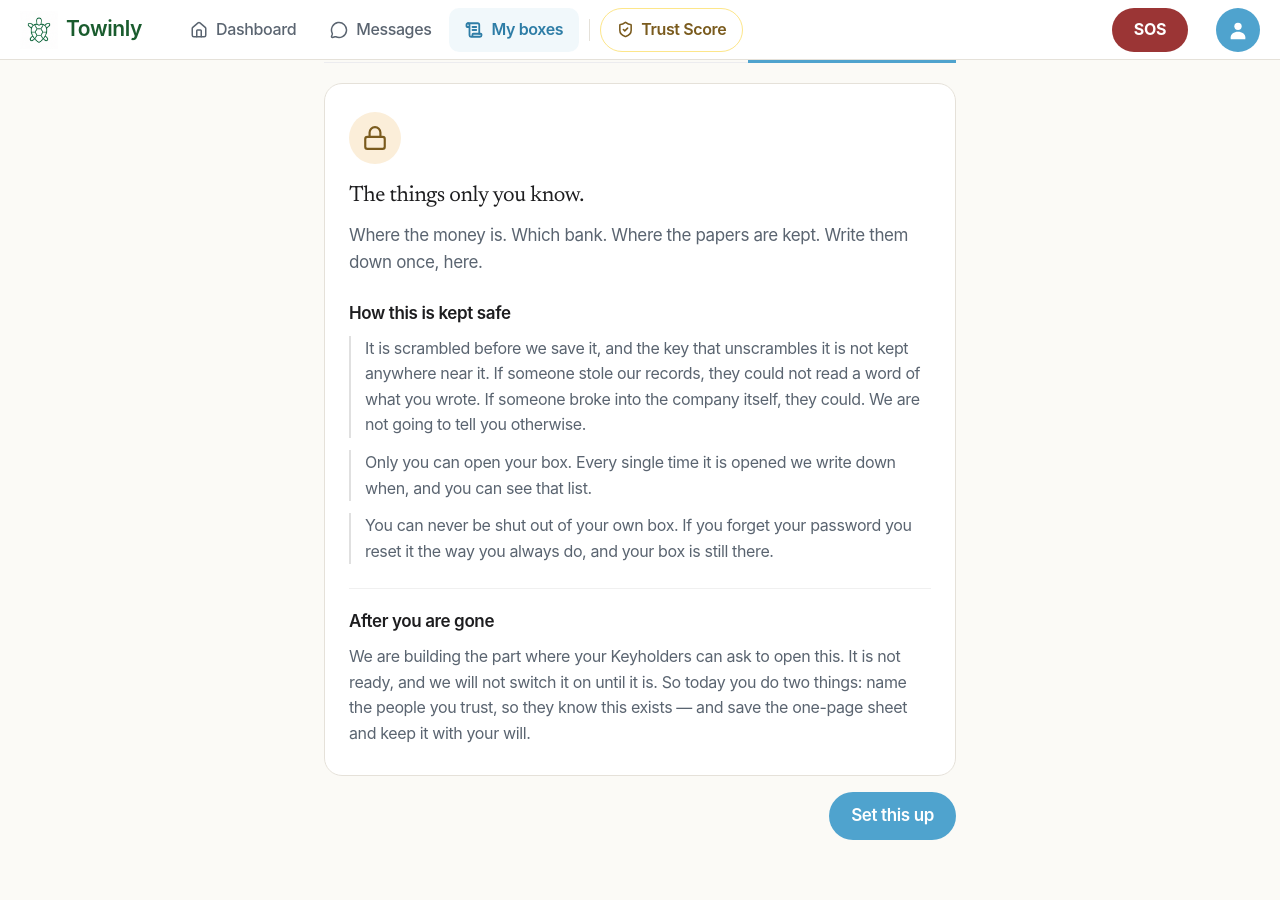
Test: setting the Sealed box up › says plainly that a family list of two is a dead end, and does not offer the pick
(page scrolled)
Check: the heading "The things only you know." is shown, box [349,185,584,207]
Step 1. Click the button "Set this up" → (893, 816), box [829,792,956,840]
(page scrolled)
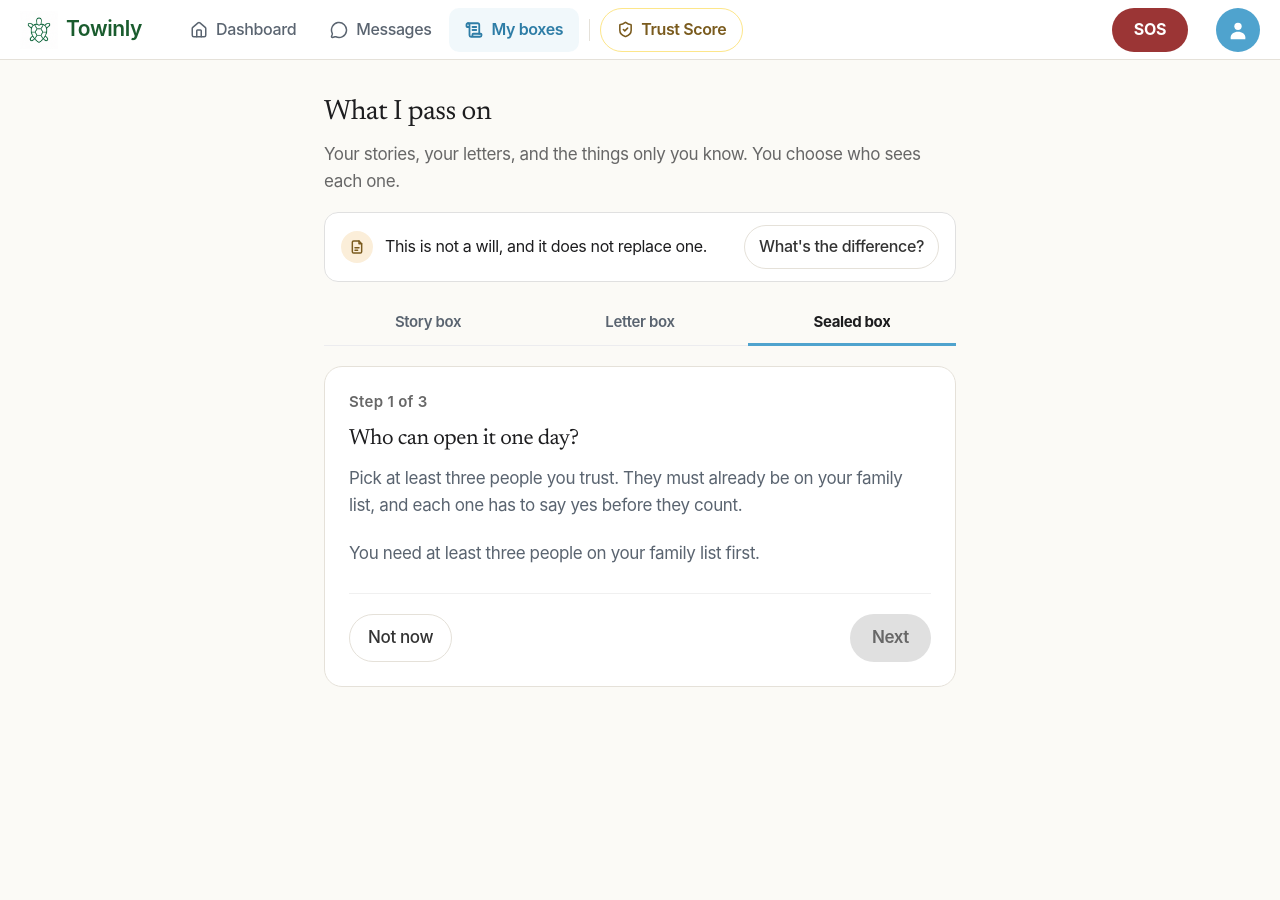
Check: the text "You need at least three people on your family list first." is shown, box [349,543,760,563]
